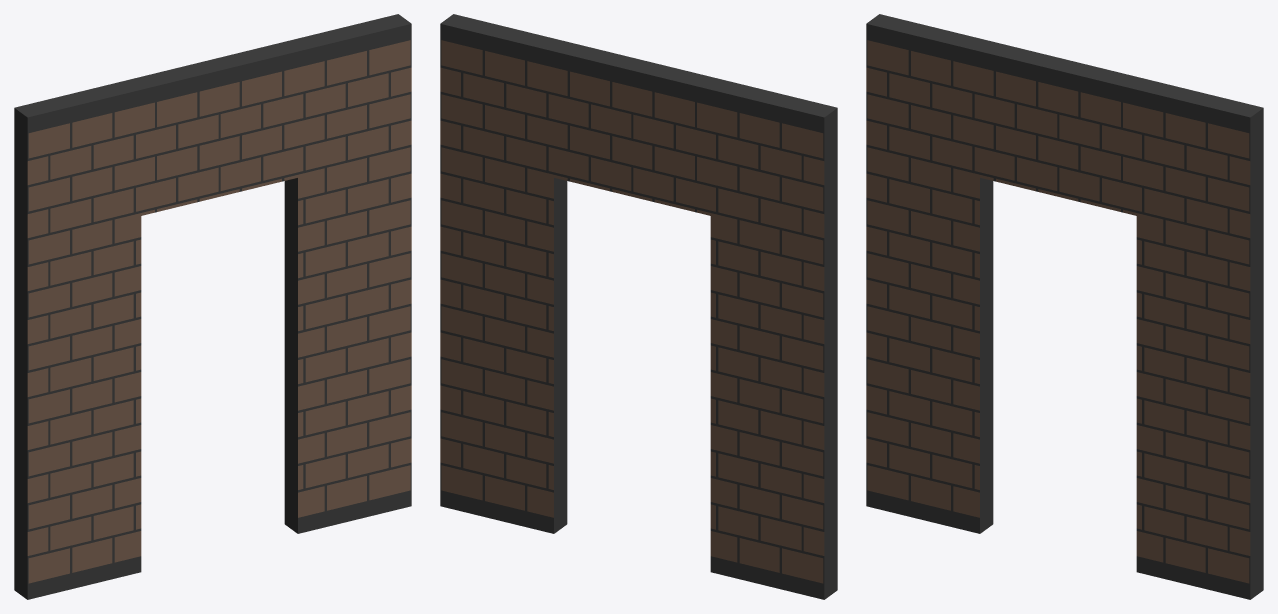
The model's file is Wall3_C10_17.fbx.
3 renders of one model, left to right at view 1: azimuth 30°, elevation 25°; view 2: azimuth 150°, elevation 25°; view 3: azimuth 330°, elevation 25°, orthographic.
Parts seen in each view (by area): view 1: Wall3_C10_17; view 2: Wall3_C10_17; view 3: Wall3_C10_17.
Part boxes in pixels (x1,y1,x2,y2): Wall3_C10_17: (14,14,411,599); Wall3_C10_17: (440,14,837,599); Wall3_C10_17: (866,14,1263,599).
Size of the model in its own units: 250 by 300 by 15.
